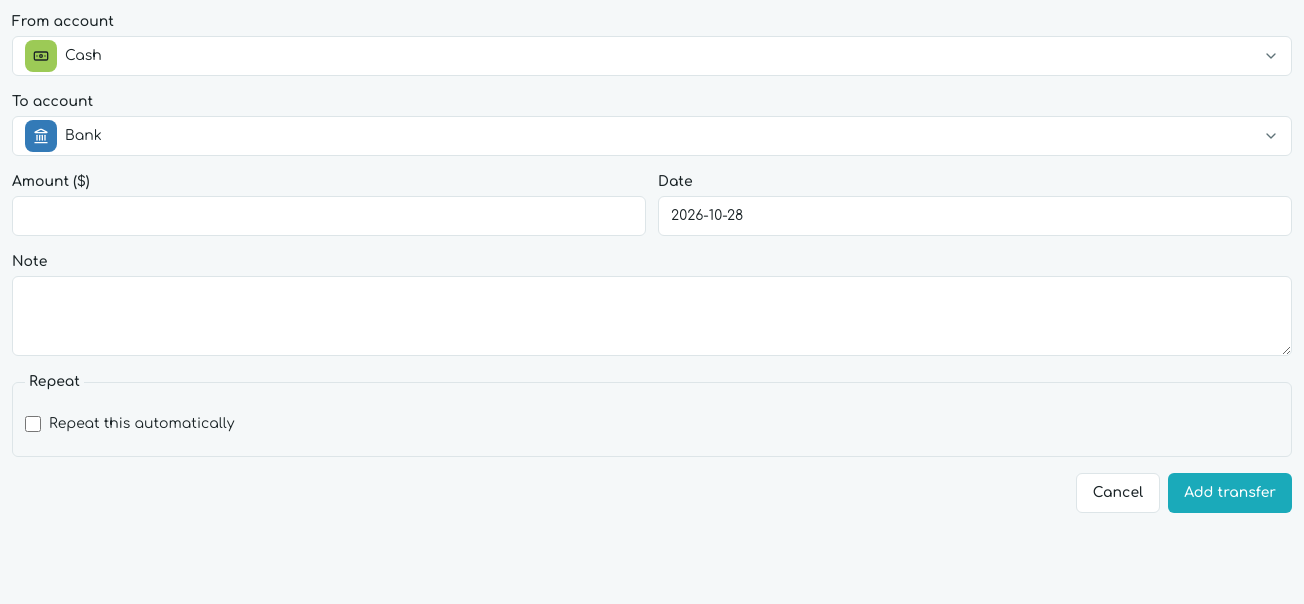
TransferForm › shows server errors and keeps the form open
The image size is (1304, 604).
In the field labelled "Amount ($)": {"x": 329, "y": 216} [12,196,646,236], type "5"
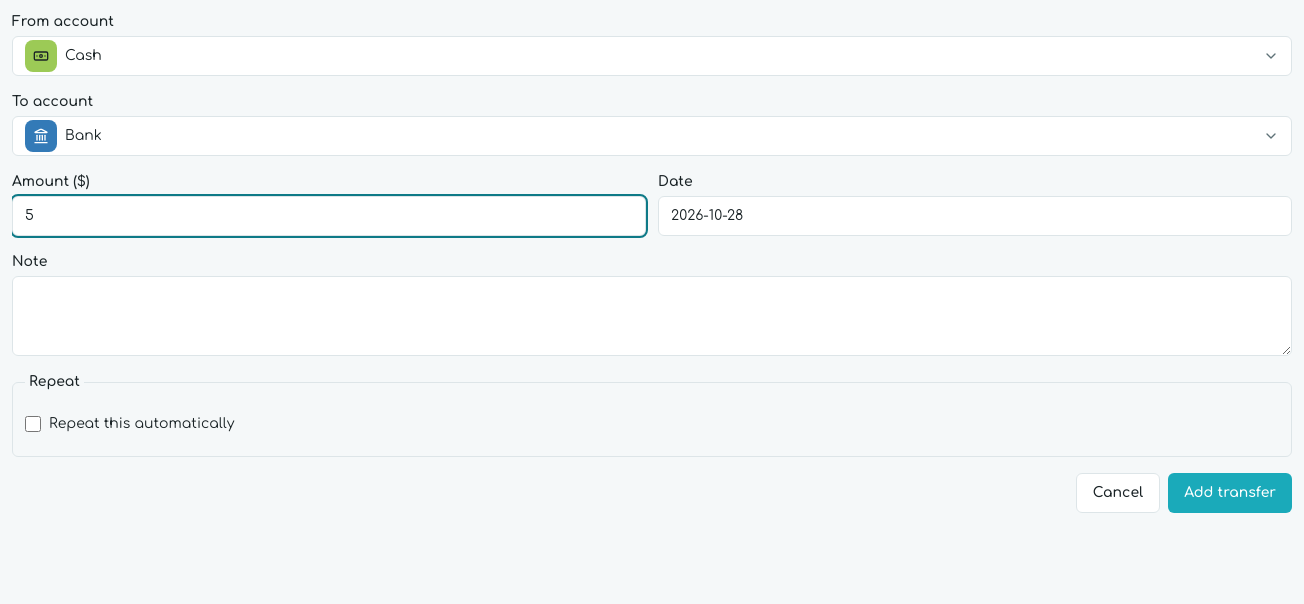
Click the button "Add transfer": {"x": 1230, "y": 493} [1168,473,1292,513]
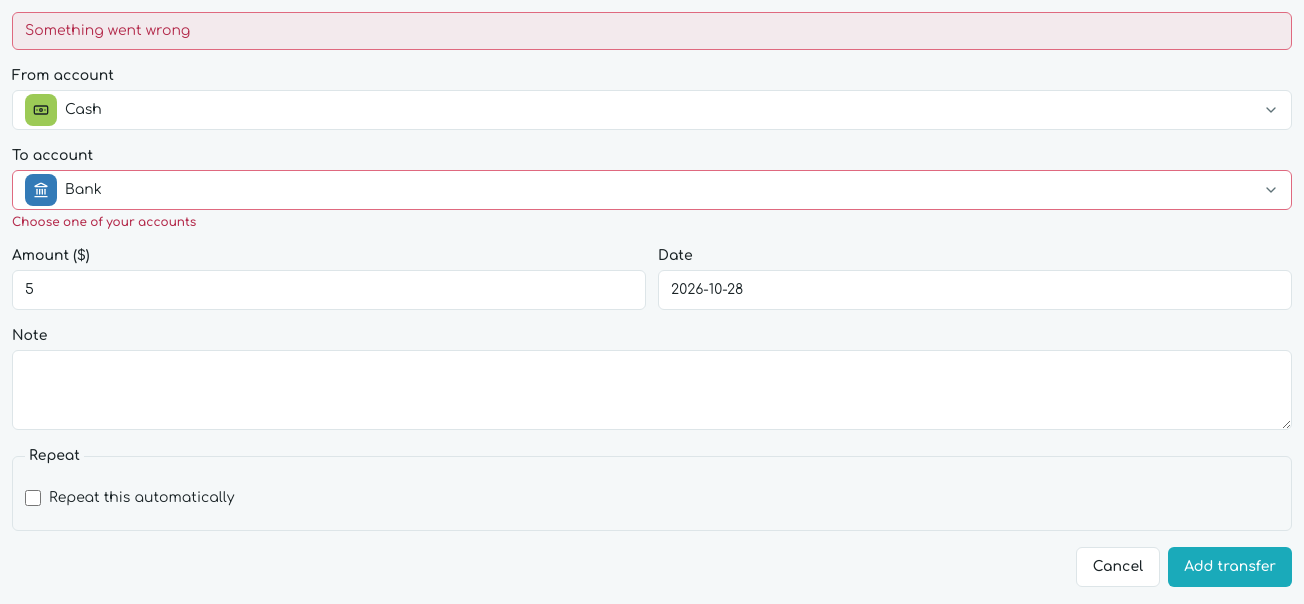
Check: the text "Something went wrong" is shown, box [12,12,1292,50]
Check: the text "Choose one of your accounts" is shown, box [12,215,196,229]
